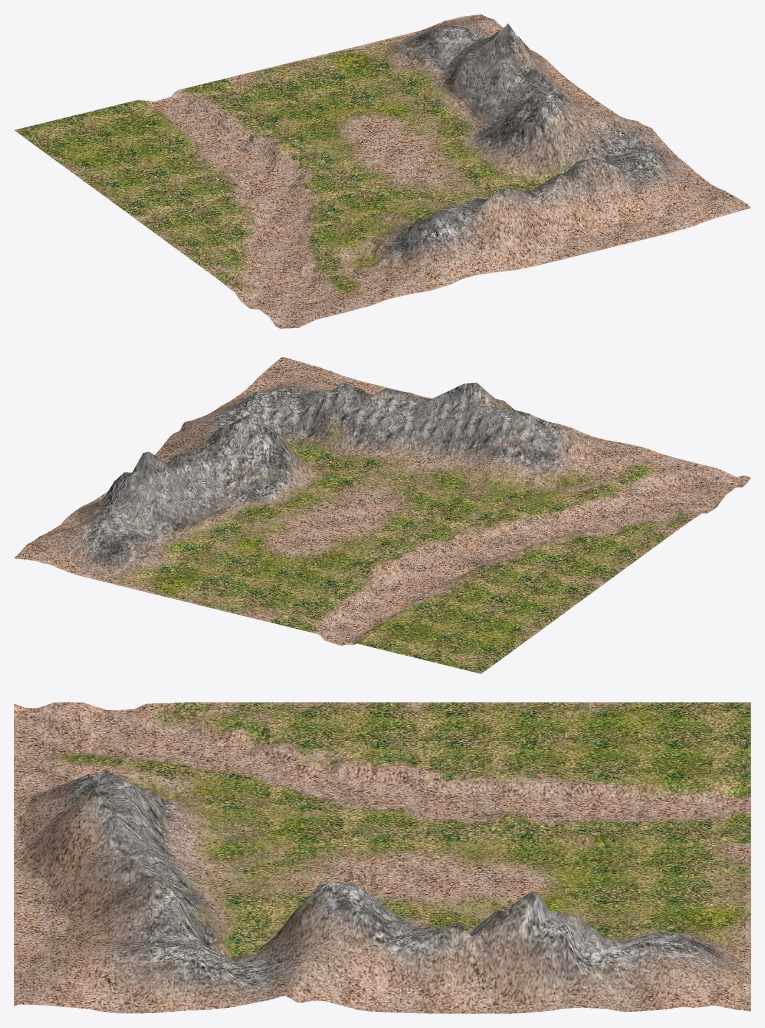
3 views of the same model, one above another, from view 1: azimuth 30°, elevation 25°; view 2: azimuth 150°, elevation 25°; view 3: azimuth 270°, elevation 25° (orthographic). The views are drawn at different scales.
Visible parts, largest first — view 1: Mesh; view 2: Mesh; view 3: Mesh.
Boxes of the visible parts, box(x1,y1,x2,y2) form: Mesh: box(14, 14, 750, 328); Mesh: box(14, 357, 750, 673); Mesh: box(14, 702, 750, 1013).
Bounding box in the file's own units: 500 × 70.74 × 500.
1 material, 1 textured.
